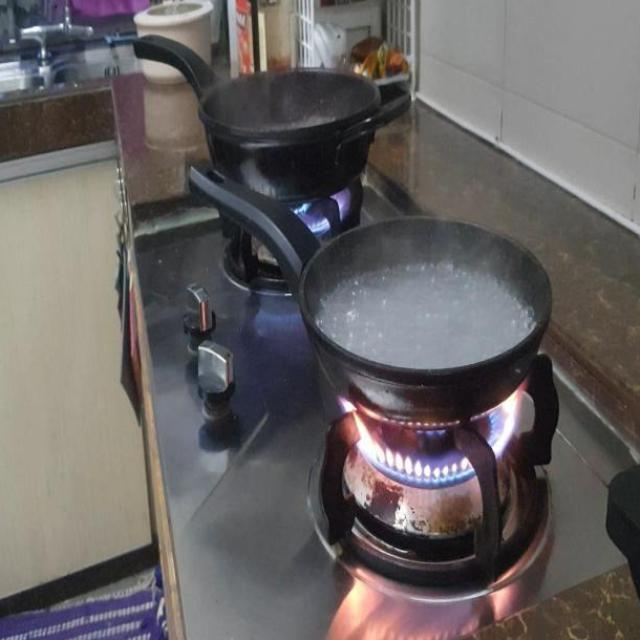smoke: (332, 392, 526, 482), (294, 168, 356, 239)
